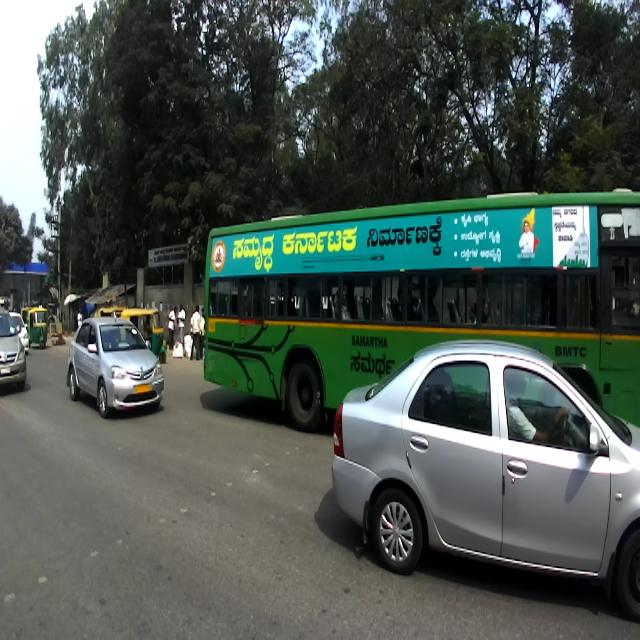car ahead at: (332, 335, 640, 616), (66, 312, 164, 427)
